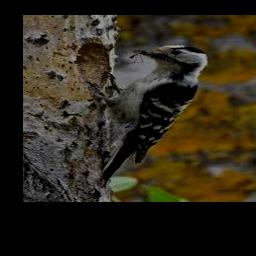Woodpecker: (101, 45, 208, 183)
